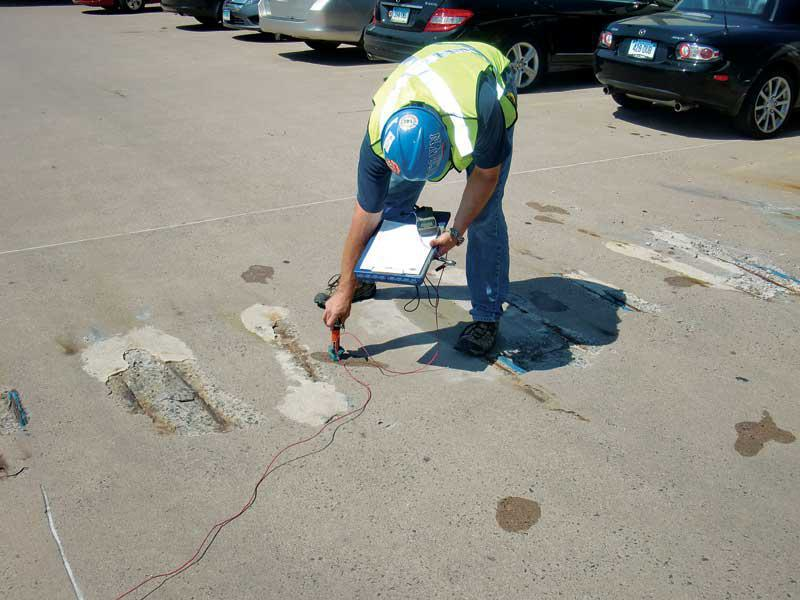Exposed reinforcement: (159, 360, 227, 426), (505, 300, 582, 346), (716, 257, 800, 293), (568, 277, 624, 307), (283, 335, 314, 377), (602, 289, 643, 314), (489, 359, 518, 378)
Spalling: (104, 348, 266, 438), (642, 225, 800, 300), (507, 292, 606, 370), (239, 302, 327, 383), (559, 270, 660, 316), (1, 385, 31, 436)
